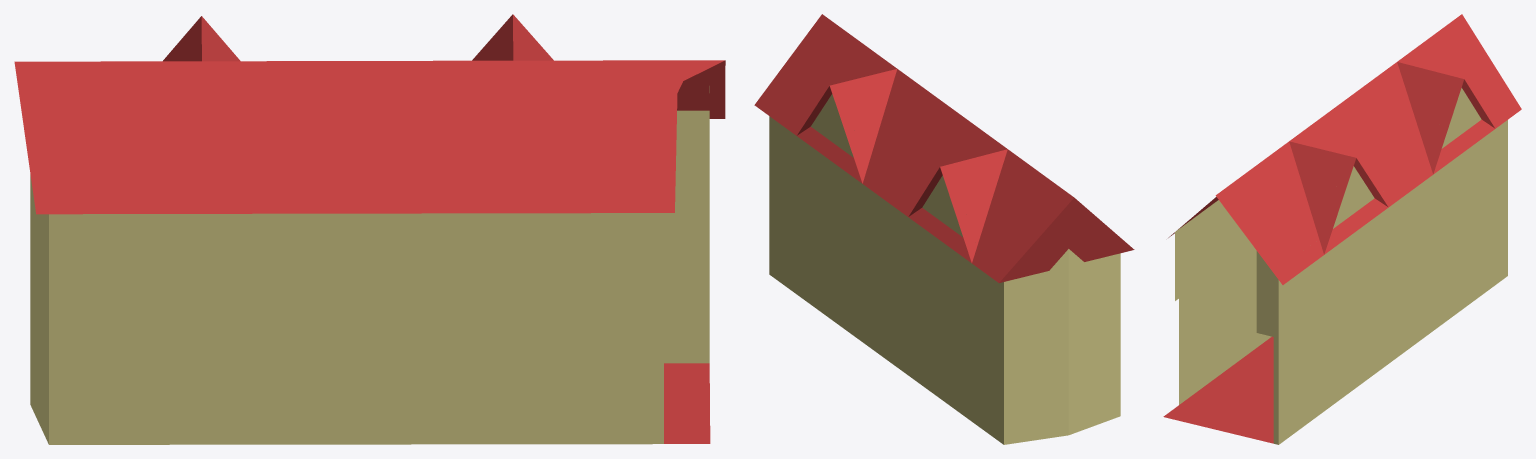
3 renders of one model, left to right at view 1: azimuth 30°, elevation 25°; view 2: azimuth 150°, elevation 25°; view 3: azimuth 270°, elevation 25°, orthographic. The views are drawn at different scales.
Parts seen in each view (by area): view 1: group_14, group_11, group_15, group_13, group_7, group_3; view 2: group_14, group_11, group_9, group_5, group_12, group_7, group_3, group_13; view 3: group_14, group_11, group_9, group_5, group_15, group_3, group_7, group_13, group_8, group_4.
Boxes of the visible parts, box(x1,y1,x2,y2) form: group_14: box(30, 86, 709, 444); group_11: box(14, 60, 725, 214); group_15: box(664, 363, 710, 443); group_13: box(37, 69, 725, 213); group_7: box(472, 14, 547, 60); group_3: box(163, 16, 238, 61); group_14: box(769, 116, 1120, 444); group_11: box(754, 14, 1073, 282); group_9: box(806, 94, 871, 348); group_5: box(917, 175, 981, 427); group_12: box(999, 197, 1134, 282); group_7: box(797, 69, 897, 183); group_3: box(908, 149, 1007, 262); group_13: box(755, 25, 1063, 281); group_14: box(1175, 120, 1507, 444); group_11: box(1168, 14, 1521, 284); group_9: box(1314, 166, 1379, 417); group_5: box(1424, 88, 1485, 337); group_15: box(1163, 336, 1273, 443); group_3: box(1397, 62, 1463, 173); group_7: box(1289, 141, 1354, 238); group_13: box(1172, 18, 1520, 283); group_8: box(1319, 155, 1387, 254); group_4: box(1428, 77, 1494, 172).
Bounding box in the file's own units: 34.18 × 24.81 × 18.26.
